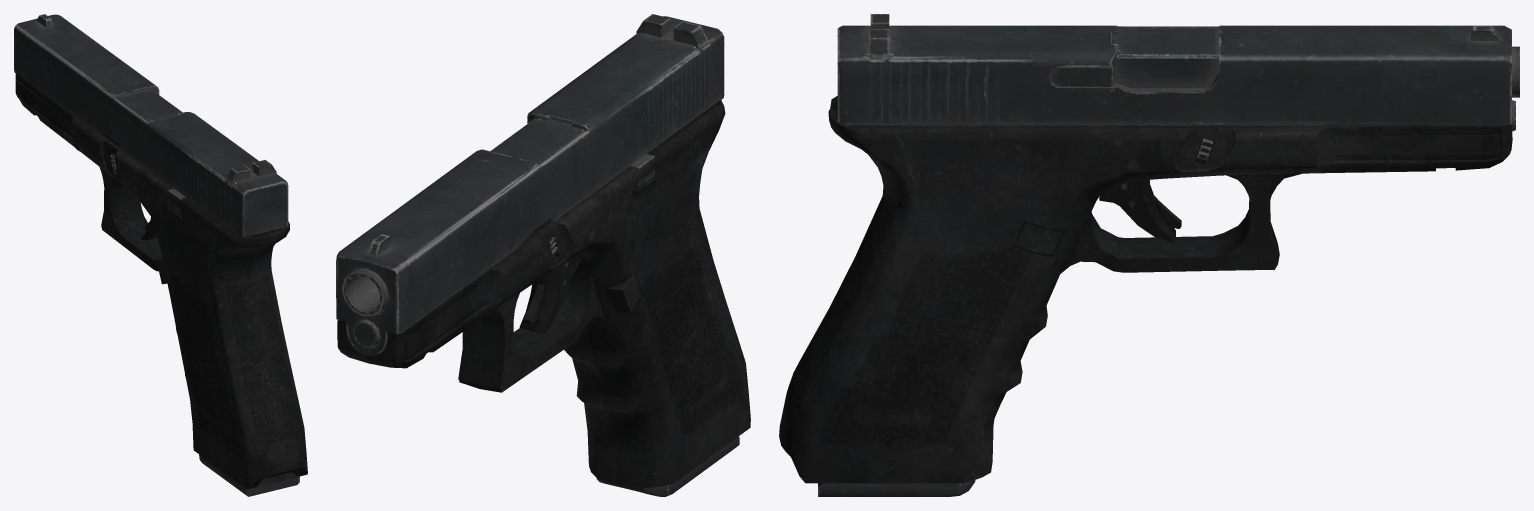
File: glock.lod2.glb
3 renders of one model, left to right at view 1: azimuth 30°, elevation 25°; view 2: azimuth 150°, elevation 25°; view 3: azimuth 270°, elevation 25°, orthographic. The views are drawn at different scales.
Parts seen in each view (by area): view 1: frame, slide, magazine; view 2: frame, slide, trigger, magazine; view 3: frame, slide, trigger, magazine.
Boxes of the visible parts, x1,y1,x2,y2 form: frame: (15,73,307,489); slide: (14,14,288,237); magazine: (199,454,299,496); frame: (337,99,750,488); slide: (336,14,724,355); trigger: (519,255,580,333); magazine: (596,436,739,496); frame: (779,29,1519,483); slide: (837,14,1511,125); trigger: (1099,179,1181,242); magazine: (818,480,975,496).
Size of the model in its own units: 0.00908 by 0.044 by 0.0653.
Materials: 1 (1 with a texture image).
